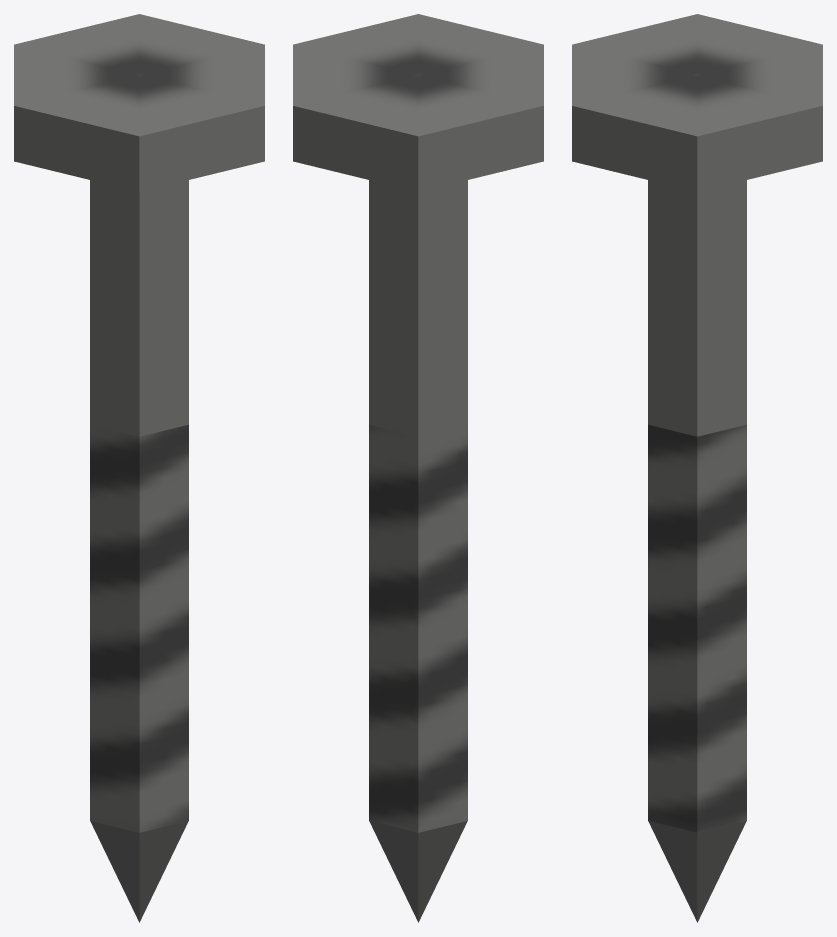
The model's file is SM_Item_Screw_01.fbx.
3 views of the same model, side by side, from view 1: azimuth 30°, elevation 25°; view 2: azimuth 150°, elevation 25°; view 3: azimuth 270°, elevation 25° (orthographic).
Parts seen in each view (by area): view 1: SM_Item_Screw_01; view 2: SM_Item_Screw_01; view 3: SM_Item_Screw_01.
Part boxes in pixels (left/top/right/bottom): SM_Item_Screw_01: left=14, top=14, right=264, bottom=922; SM_Item_Screw_01: left=293, top=14, right=543, bottom=922; SM_Item_Screw_01: left=572, top=14, right=822, bottom=922.
Bounding box in the file's own units: 3.87 × 12.51 × 3.35.
